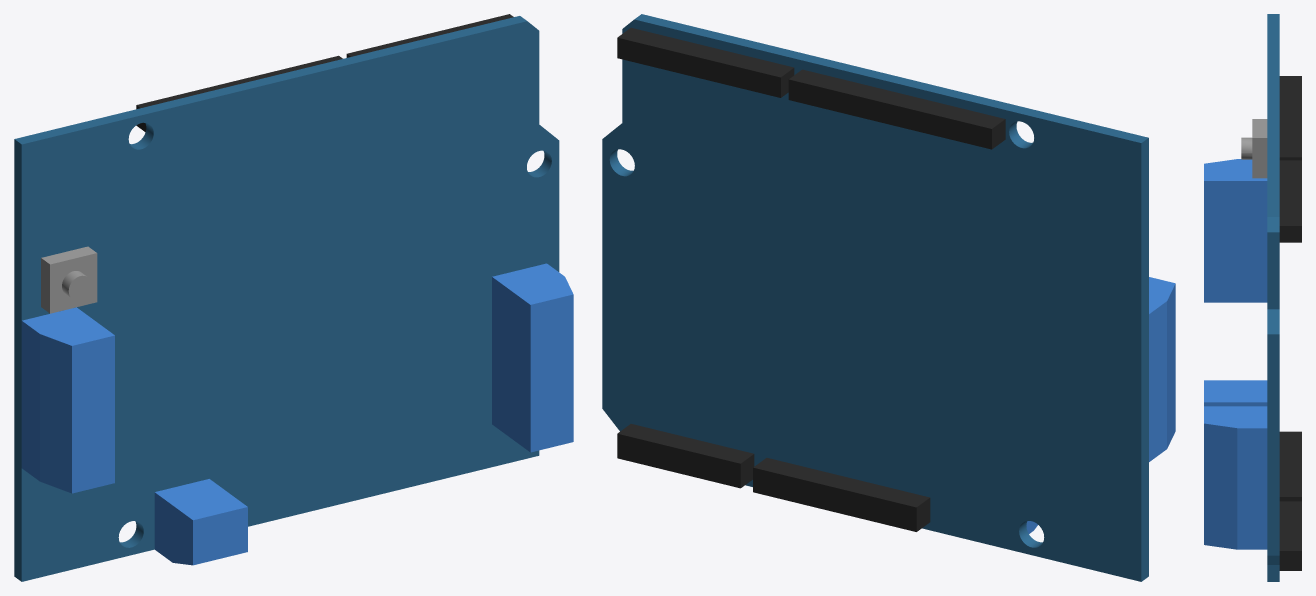
File: 1438 Adafruit MotorShield.glb
The picture shows the model from 3 angles, left to right: view 1: azimuth 30°, elevation 25°; view 2: azimuth 150°, elevation 25°; view 3: azimuth 270°, elevation 25°; orthographic projection. The views are drawn at different scales.
Parts seen in each view (by area): view 1: Adafruit MotorShield V2 v3; view 2: Adafruit MotorShield V2 v3; view 3: Adafruit MotorShield V2 v3.
Boxes of the visible parts, x1,y1,x2,y2 form: Adafruit MotorShield V2 v3: (14,14,573,581); Adafruit MotorShield V2 v3: (602,14,1175,581); Adafruit MotorShield V2 v3: (1204,14,1301,581).
Size of the model in its own units: 68.58 by 53.34 by 13.14.
